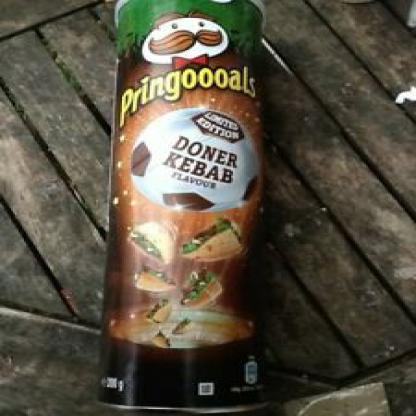potatochip: (96, 0, 277, 415)
